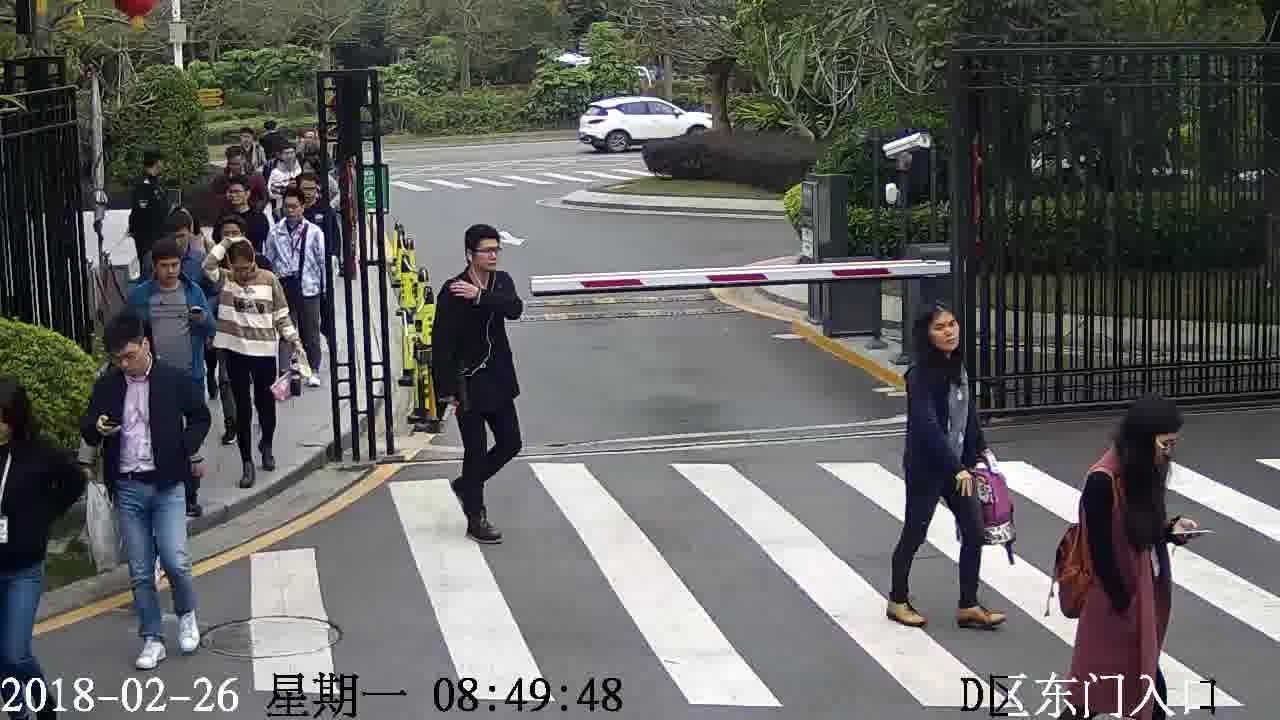face: (108, 341, 150, 380), (925, 311, 965, 351), (466, 236, 504, 275), (152, 256, 182, 287)
person: (1087, 396, 1183, 507), (94, 310, 193, 402), (437, 223, 518, 303), (1, 383, 66, 480), (900, 302, 970, 392), (135, 240, 206, 304), (216, 236, 280, 296), (269, 186, 323, 245), (150, 205, 206, 260), (205, 214, 257, 267), (216, 175, 269, 226), (293, 168, 337, 225), (213, 144, 265, 190), (133, 147, 168, 196), (265, 136, 302, 181), (237, 124, 270, 159)
